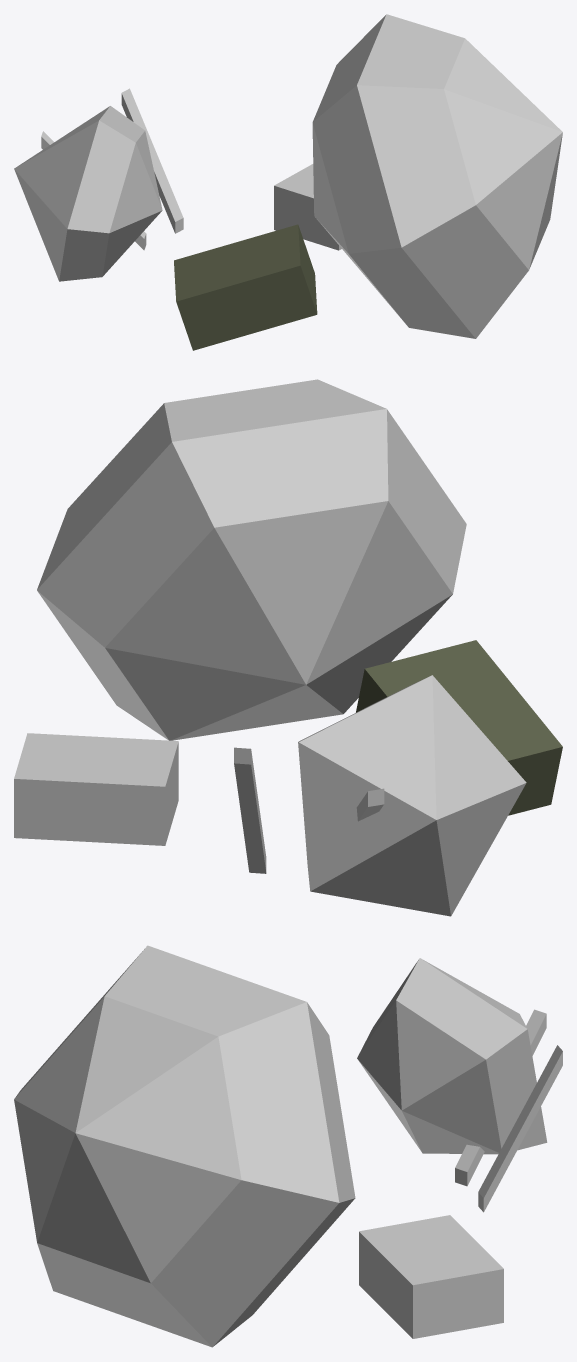
File: mech_relay_crashed.obj
3 views of the same model, one above another, from view 1: azimuth 30°, elevation 25°; view 2: azimuth 150°, elevation 25°; view 3: azimuth 270°, elevation 25° (orthographic). The views are drawn at different scales.
Parts seen in each view (by area): view 1: mech_relay_crashed_0, mech_relay_crashed_1, mech_relay_crashed_2, mech_relay_crashed_3, mech_relay_crashed_5; view 2: mech_relay_crashed_0, mech_relay_crashed_1, mech_relay_crashed_3, mech_relay_crashed_2, mech_relay_crashed_5; view 3: mech_relay_crashed_0, mech_relay_crashed_1, mech_relay_crashed_3, mech_relay_crashed_5, mech_relay_crashed_4.
Boxes of the visible parts, x1,y1,x2,y2 form: mech_relay_crashed_0: (312,14,562,338); mech_relay_crashed_1: (14,106,162,281); mech_relay_crashed_2: (174,224,317,350); mech_relay_crashed_3: (274,164,341,250); mech_relay_crashed_5: (121,88,183,233); mech_relay_crashed_0: (37,379,466,740); mech_relay_crashed_1: (298,675,526,916); mech_relay_crashed_3: (14,733,178,845); mech_relay_crashed_2: (356,640,562,815); mech_relay_crashed_5: (234,747,266,873); mech_relay_crashed_0: (14,945,355,1347); mech_relay_crashed_1: (357,958,547,1154); mech_relay_crashed_3: (359,1215,503,1338); mech_relay_crashed_5: (478,1045,562,1212); mech_relay_crashed_4: (455,1009,546,1186).
Bounding box in the file's own units: 2.82 × 1.67 × 2.77.
